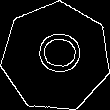O_W: (29, 34, 83, 80)
